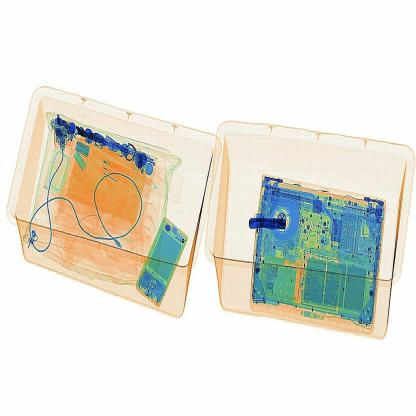knife: (246, 215, 290, 235)
